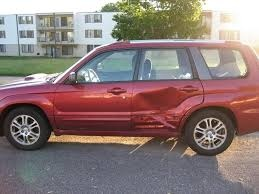Dent: (128, 86, 186, 131)
